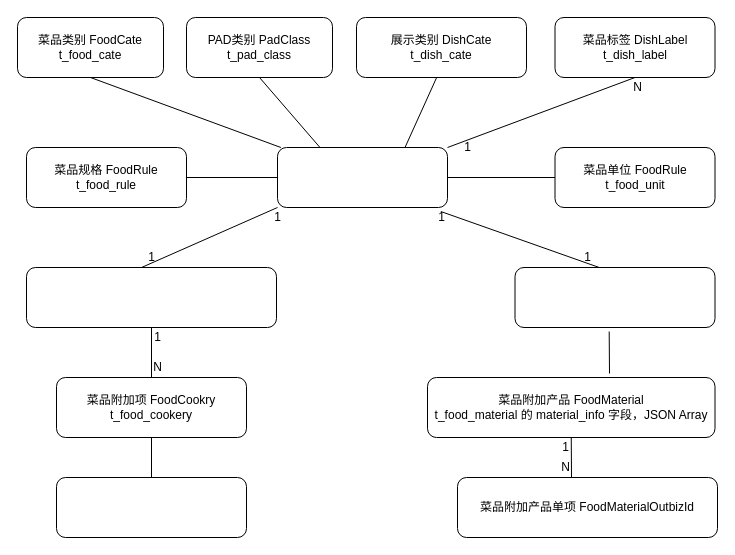
Image size: 735x555. Some labels were removed from this diagram. The box of each missing label's shape, as (x1, y1, x2, y2) in pixels:
菜品附加产品 FoodMaterialInfo t_food_material: (514, 266, 715, 328)
菜品附加项组 FoodCookeryInfo t_food 的 cookery_info 字段，JSON Array: (26, 266, 276, 328)
附加项类别 TFoodCookeryClassify t_food_cookery_classify: (56, 476, 246, 538)
集团菜品 Food t_food: (276, 146, 448, 208)
